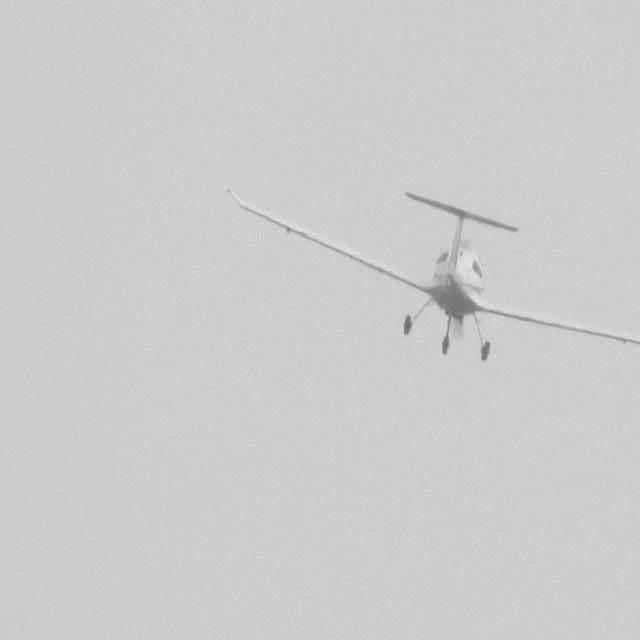iha: (228, 188, 640, 364)
